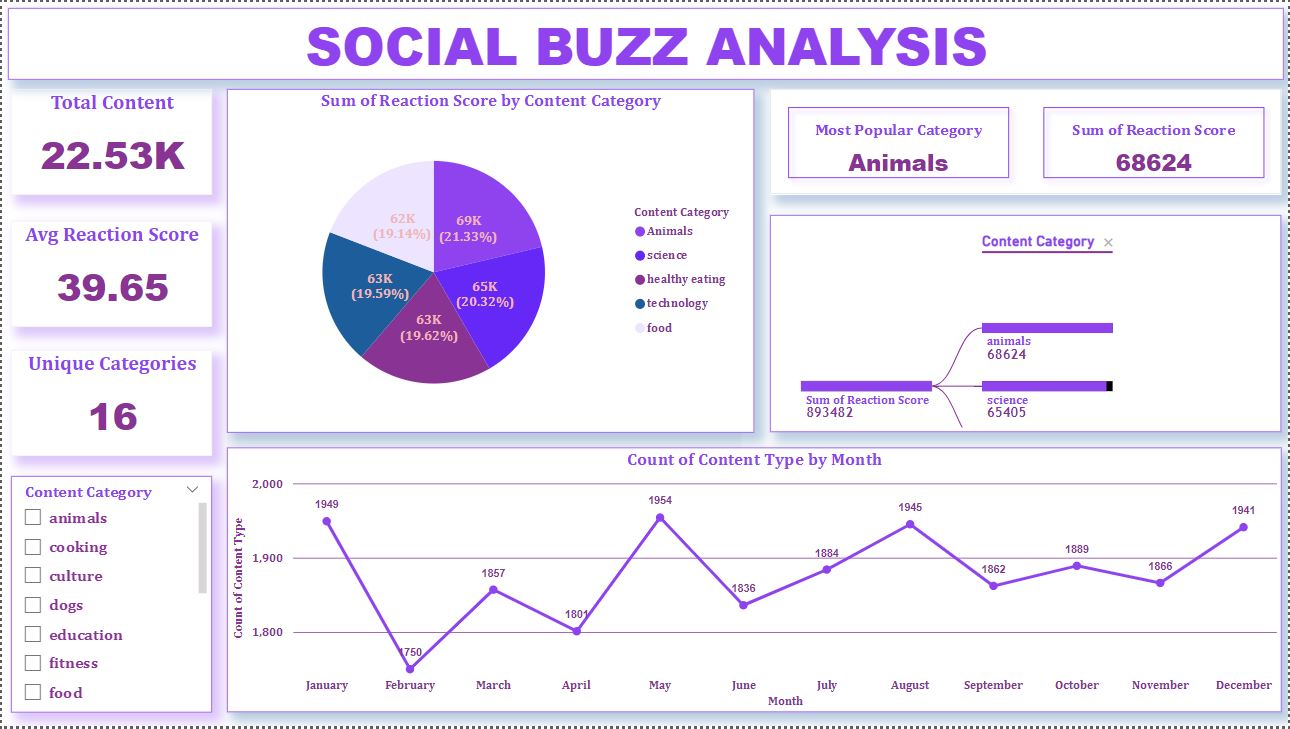

The page's visual inventory and layout, read from the dashboard file:
{"tool":"powerbi","page":{"name":"Accenture","canvas":[1280,720],"ordinal":0},"visuals":[{"type":"shape","title":"SOCIAL BUZZ ANALYSIS","box":[5.4,5.4,1269.6,71.4],"z":0},{"type":"shape","box":[224.6,86,512.3,210.5],"z":1000},{"type":"shape","box":[224.6,498.2,1050.9,210.5],"z":2000},{"type":"shape","box":[224.6,305.3,512.3,145.6],"z":3000},{"type":"card","title":"Total Content","fields":{"Values":["CountNonNull(CleanedDataset etTop 5 Category (2).Content ID)"]},"box":[8.8,86,200,105.3],"z":4000},{"type":"card","title":"Unique Categories","fields":{"Values":["Count(CleanedDataset etTop 5 Category (2).Content Category)"]},"box":[8.8,345.6,200,105.3],"z":5000},{"type":"card","title":"Avg Reaction Score","fields":{"Values":["Avg(CleanedDataset etTop 5 Category (2).Reaction Score)"]},"box":[8.8,217.5,200,105.3],"z":6000},{"type":"pieChart","title":"Sum of Reaction Score by Content Category","fields":{"Category":["Sheet1.Content Category"],"Y":["Sum(Sheet1.Sum of Reaction Score)"]},"box":[224.6,86,524.6,342.1],"z":7000},{"type":"cardVisual","fields":{"Data":["Min(Sheet1.Content Category)","Sum(Sheet1.Sum of Reaction Score)"]},"box":[764.9,86,508.8,105.3],"z":8000},{"type":"lineChart","fields":{"Category":["CleanedDataset etTop 5 Category (2).Datetime.Variation.Date Hierarchy.Month"],"Y":["CountNonNull(CleanedDataset etTop 5 Category (2).Content Type)"]},"box":[224.6,443.9,1049.1,263.2],"z":9000},{"type":"decompositionTreeVisual","fields":{"ExplainBy":["CleanedDataset etTop 5 Category (2).Content Category"],"Analyze":["Sum(CleanedDataset etTop 5 Category (2).Reaction Score)"]},"box":[764.9,212.3,508.8,215.8],"z":10000},{"type":"slicer","fields":{"Values":["CleanedDataset etTop 5 Category (2).Content Category"]},"box":[8.8,471.9,200,235.1],"z":11000}]}

Visuals, with their boxes in screenshot pixels (x1, y1, x2, y2), scaled from the page's 1280x720 canvas onto the 1290x729 screenshot:
"SOCIAL BUZZ ANALYSIS" shape: {"left": 5, "top": 5, "right": 1285, "bottom": 78}
shape: {"left": 226, "top": 87, "right": 743, "bottom": 300}
shape: {"left": 226, "top": 504, "right": 1285, "bottom": 718}
shape: {"left": 226, "top": 309, "right": 743, "bottom": 457}
"Total Content" card: {"left": 9, "top": 87, "right": 210, "bottom": 194}
"Unique Categories" card: {"left": 9, "top": 350, "right": 210, "bottom": 457}
"Avg Reaction Score" card: {"left": 9, "top": 220, "right": 210, "bottom": 327}
"Sum of Reaction Score by Content Category" pieChart: {"left": 226, "top": 87, "right": 755, "bottom": 433}
cardVisual - Min(Sheet1.Content Category) x Sum(Sheet1.Sum of Reaction Score): {"left": 771, "top": 87, "right": 1284, "bottom": 194}
lineChart - CleanedDataset etTop 5 Category (2).Datetime.Variation.Date Hierarchy.Month x CountNonNull(CleanedDataset etTop 5 Category (2).Content Type): {"left": 226, "top": 449, "right": 1284, "bottom": 716}
decompositionTreeVisual - CleanedDataset etTop 5 Category (2).Content Category x Sum(CleanedDataset etTop 5 Category (2).Reaction Score): {"left": 771, "top": 215, "right": 1284, "bottom": 433}
slicer - CleanedDataset etTop 5 Category (2).Content Category: {"left": 9, "top": 478, "right": 210, "bottom": 716}
